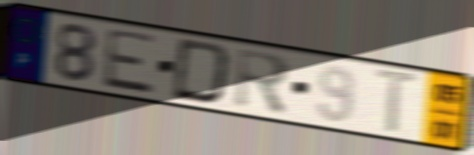8: (54, 21, 97, 85)
9: (315, 62, 360, 125)
D: (169, 36, 234, 107)
E: (100, 26, 159, 97)
R: (232, 45, 293, 119)
T: (371, 65, 425, 137)
